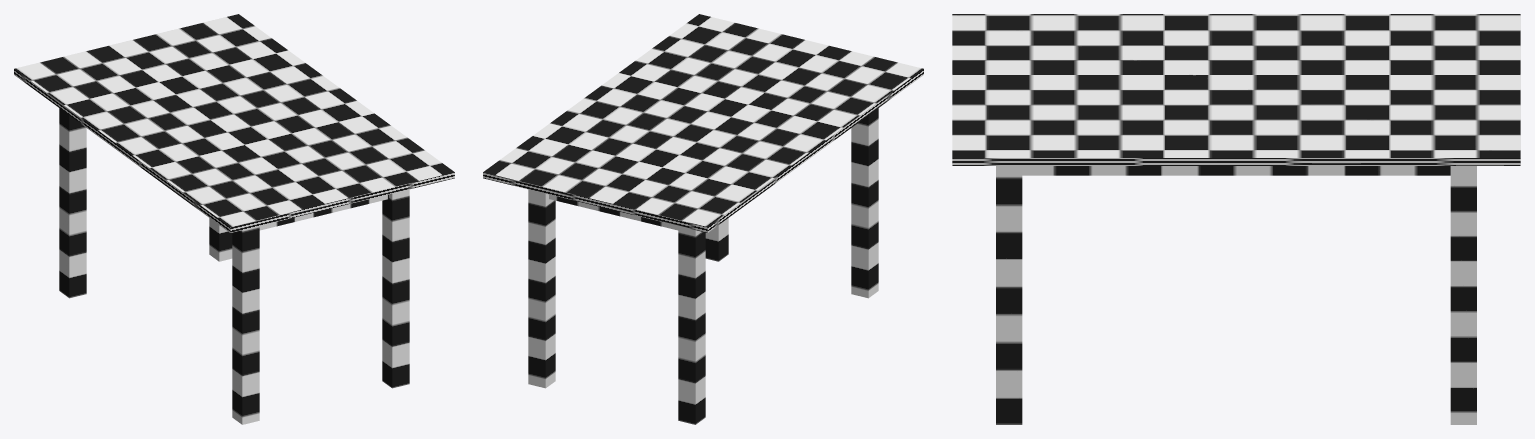
Rendered from table.fbx.
The picture shows the model from 3 angles, left to right: view 1: azimuth 30°, elevation 25°; view 2: azimuth 150°, elevation 25°; view 3: azimuth 270°, elevation 25°; orthographic projection. The views are drawn at different scales.
Parts seen in each view (by area): view 1: Table; view 2: Table; view 3: Table.
Boxes of the visible parts, bbox=[...] form: Table: bbox=[14, 14, 454, 424]; Table: bbox=[483, 14, 923, 424]; Table: bbox=[952, 14, 1520, 424].
Bounding box in the file's own units: 7800 × 7200 × 13000.
